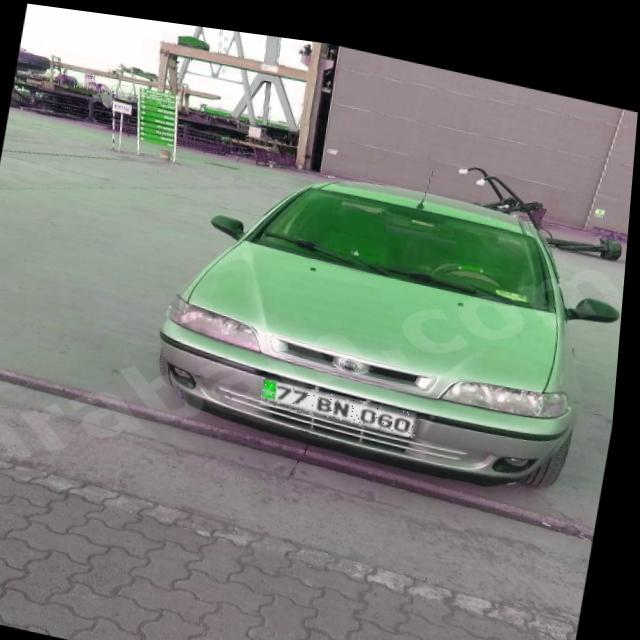license_plate: (265, 370, 426, 426)
